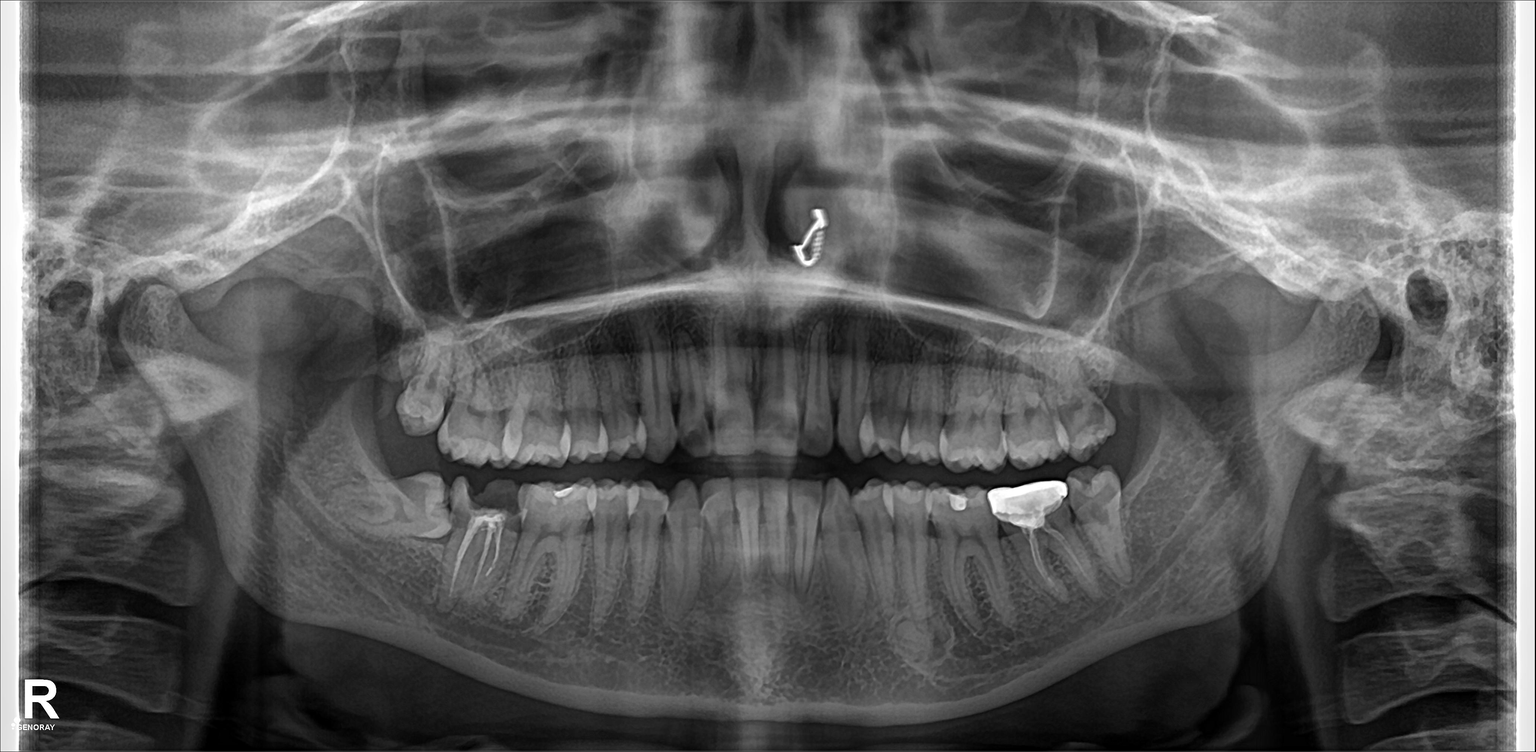Dental Caries: (1050, 385, 1107, 434), (1071, 488, 1111, 523)
Endodontically Treated Tooth: (998, 486, 1077, 615), (456, 501, 507, 600)
Impacted Third Molar: (354, 480, 457, 538)
Missing Tooth: (374, 337, 413, 435)
